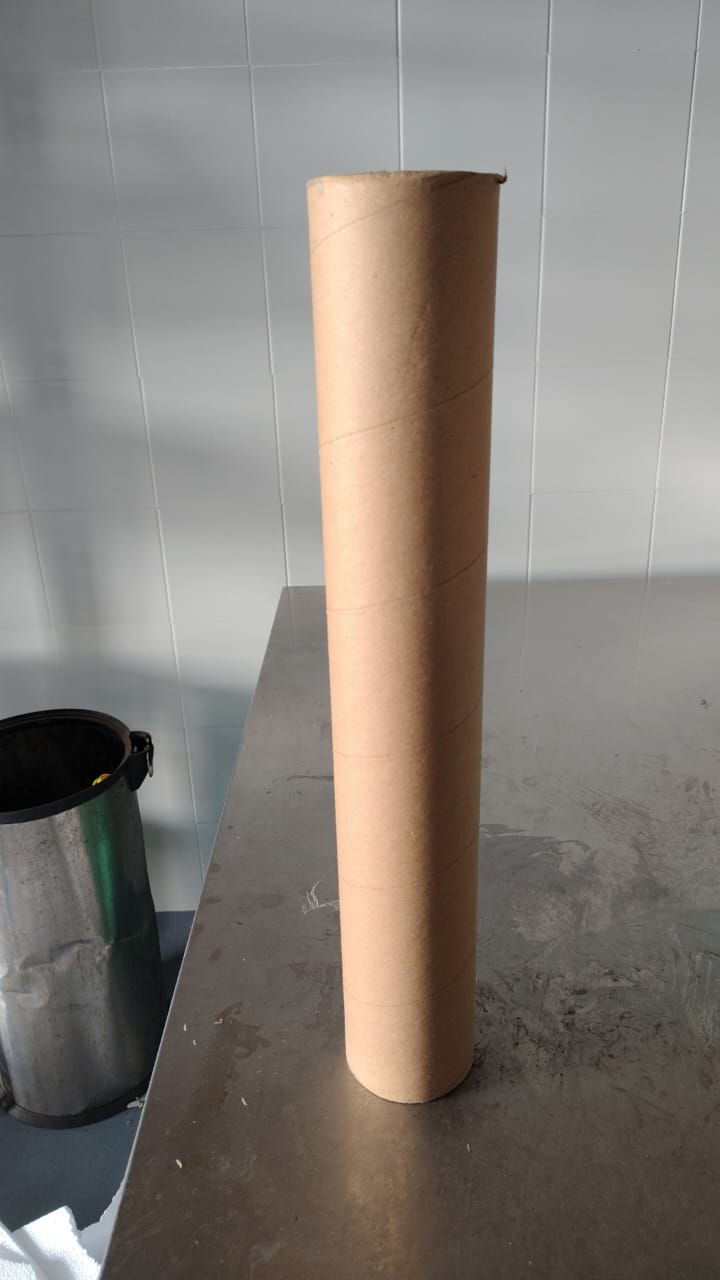Carton: (309, 171, 498, 1109)
